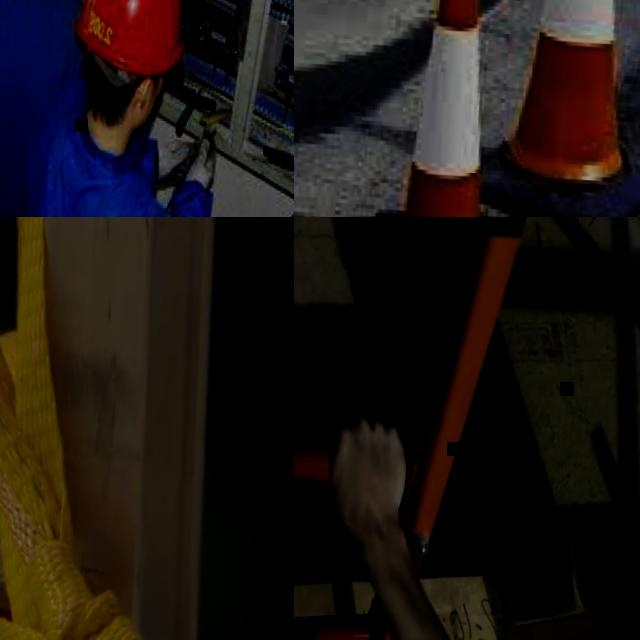Hardhat: (68, 0, 192, 79)
NO-Mask: (129, 93, 152, 130)
NO-Safety Vest: (0, 0, 75, 217), (34, 119, 172, 217)
Person: (30, 0, 236, 217), (314, 414, 471, 640), (0, 0, 109, 217)
Safety Cone: (358, 0, 537, 217), (468, 0, 640, 217)
